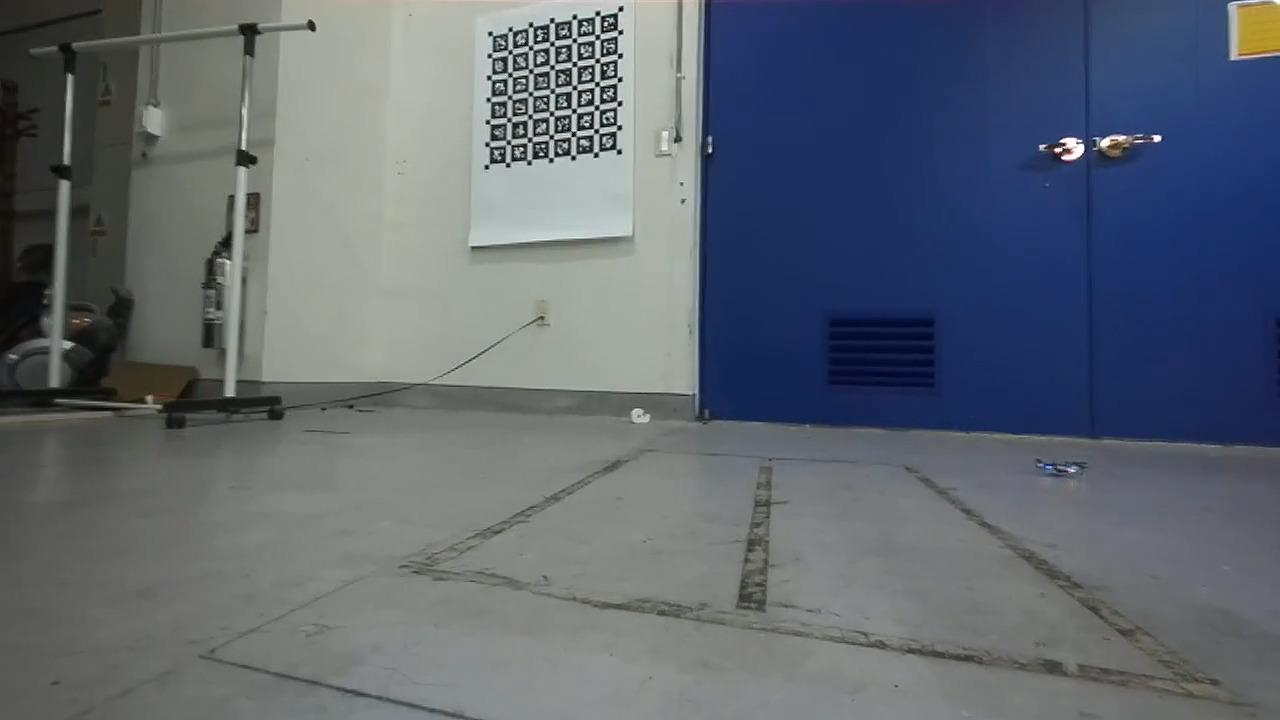crazyflie: (1034, 455, 1090, 481)
